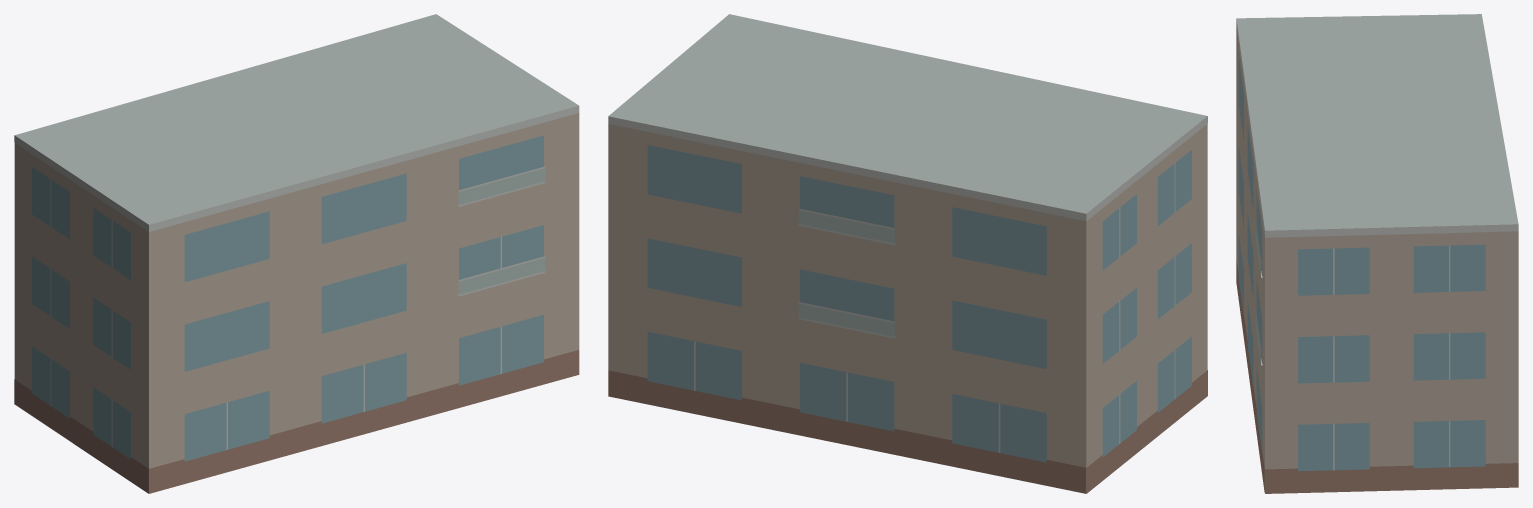
File: survey-upis-32760023.glb
3 renders of one model, left to right at view 1: azimuth 30°, elevation 25°; view 2: azimuth 150°, elevation 25°; view 3: azimuth 270°, elevation 25°, orthographic. The views are drawn at different scales.
Visible parts, largest first — view 1: survey-upis-32760023.tmp; view 2: survey-upis-32760023.tmp; view 3: survey-upis-32760023.tmp.
Part boxes in pixels (left/top/right/bottom): survey-upis-32760023.tmp: left=14, top=14, right=579, bottom=493; survey-upis-32760023.tmp: left=608, top=14, right=1207, bottom=493; survey-upis-32760023.tmp: left=1236, top=14, right=1518, bottom=493.
Size of the model in its own units: 16.17 by 9.15 by 8.9.
